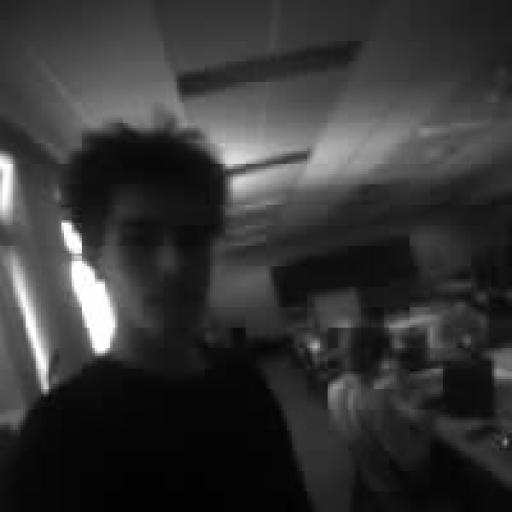human: (6, 123, 309, 511), (328, 323, 432, 511)
